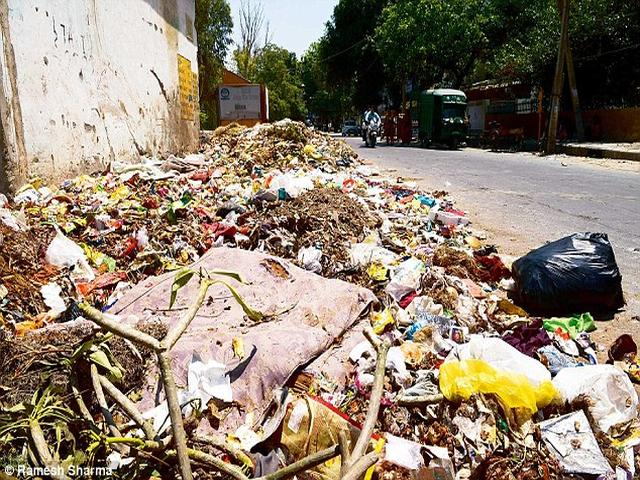garbage: (19, 195, 448, 469), (461, 325, 631, 474), (222, 126, 351, 272)
